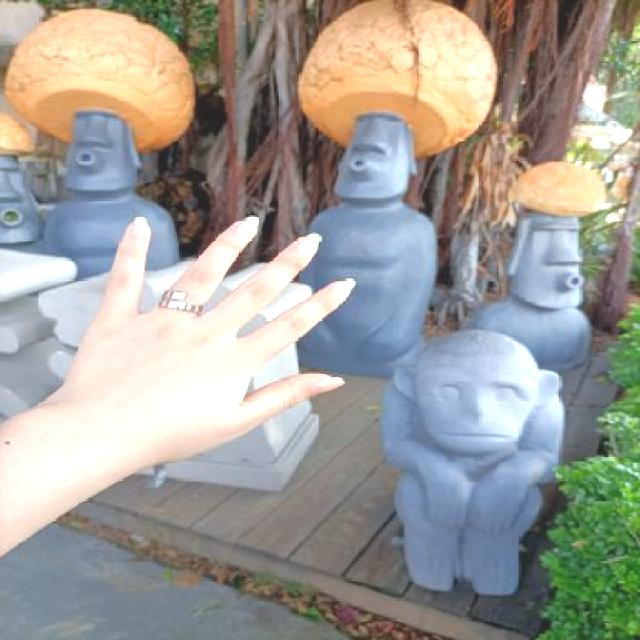no_glove: (35, 180, 383, 478)
